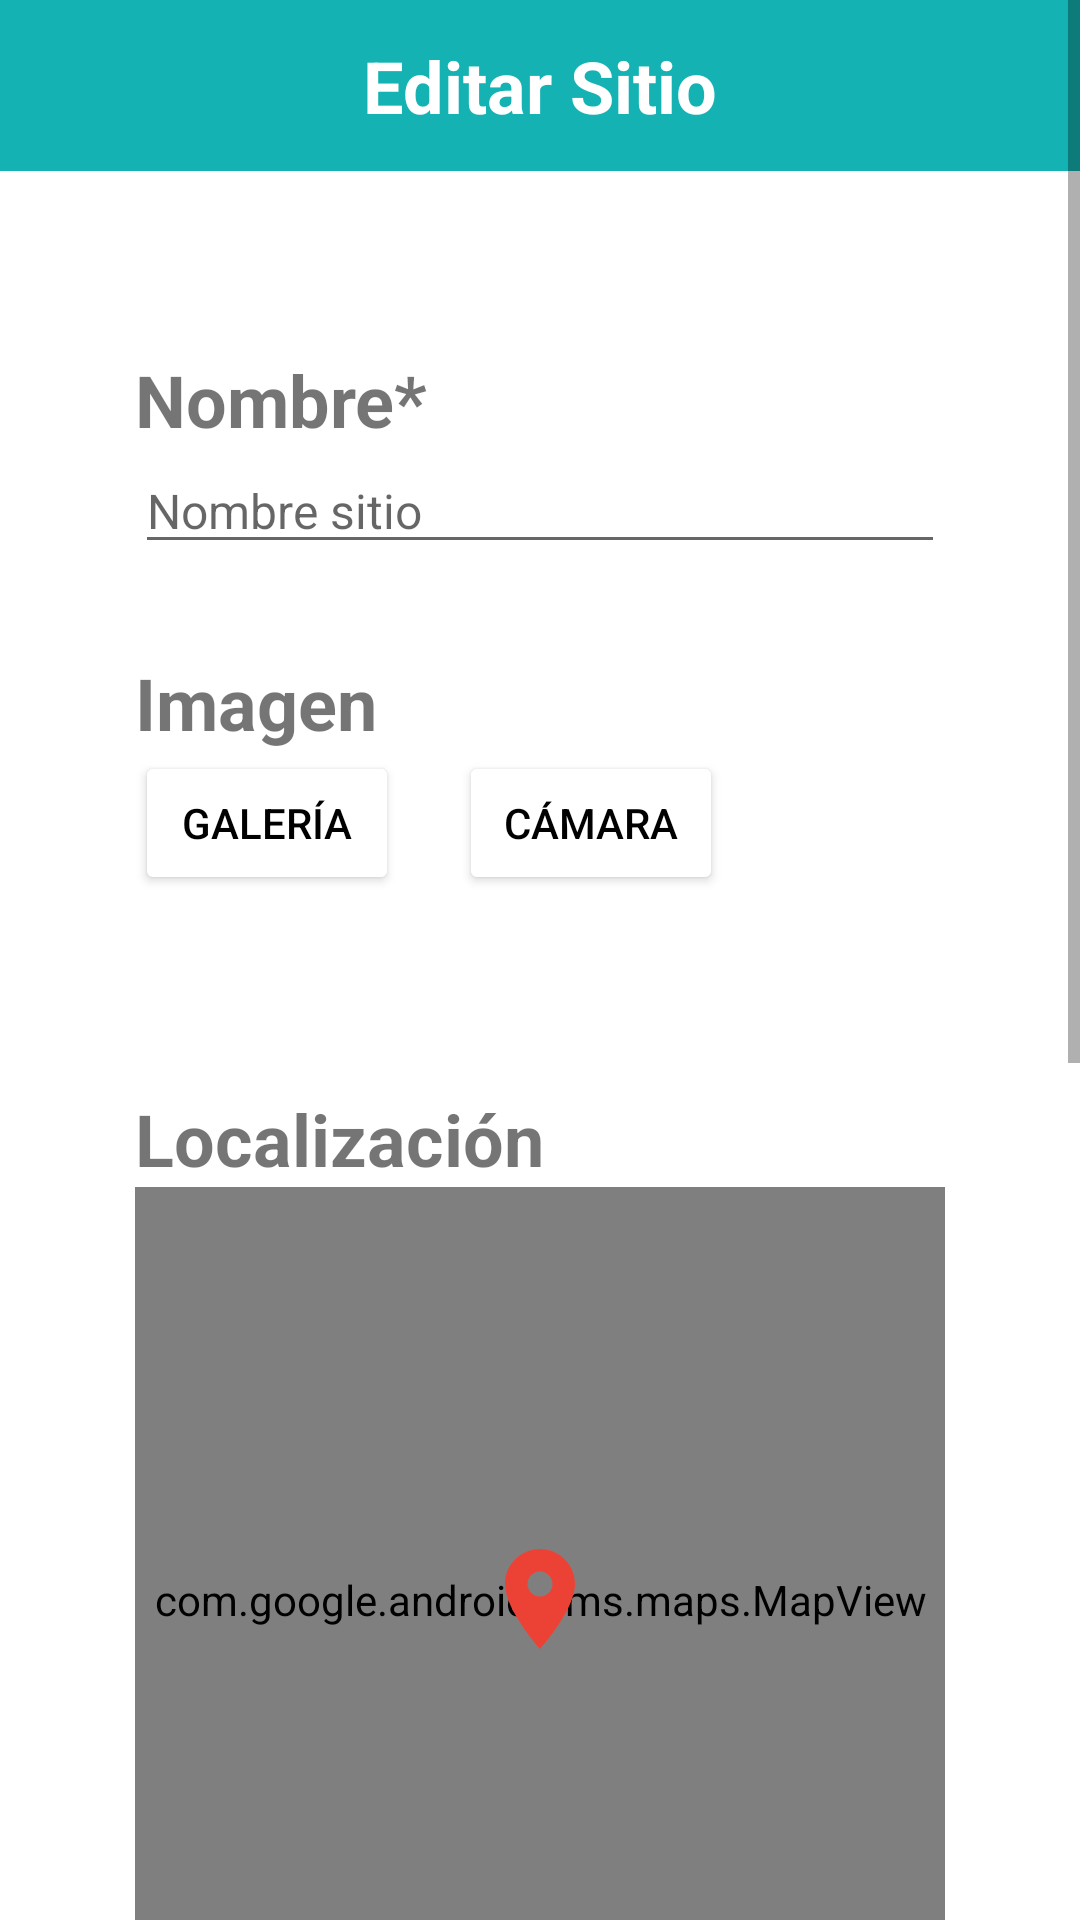

Point at icon controls on the screen. Image size 1080*1920, points as (x=x, y=y).
google pin: (x=549, y=1599)
